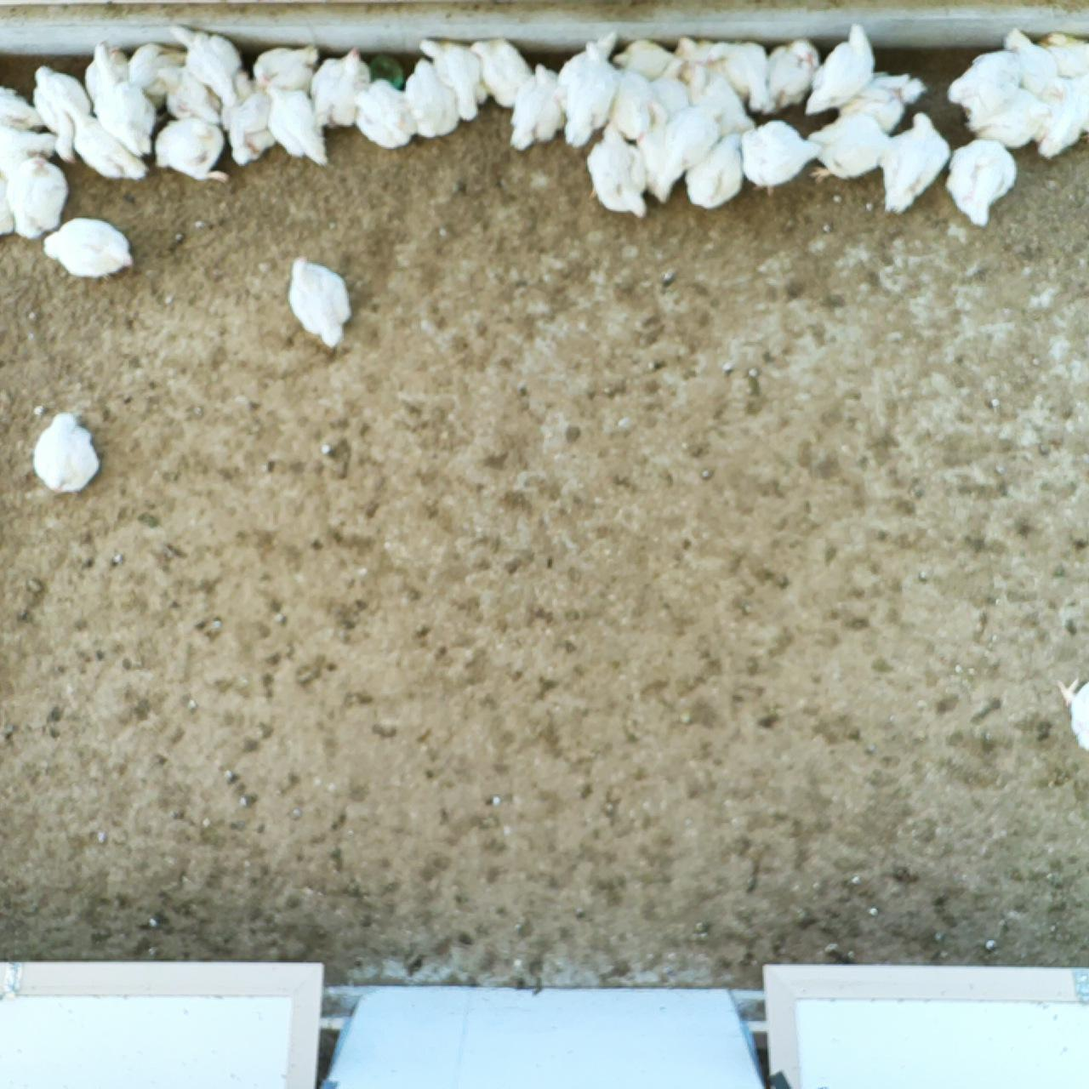chicken: (55, 96, 151, 184), (877, 110, 952, 218), (88, 39, 155, 157), (801, 19, 877, 119), (284, 250, 354, 352), (737, 118, 823, 198), (946, 136, 1020, 226), (415, 33, 489, 123), (586, 119, 650, 223), (562, 39, 620, 151), (806, 112, 893, 186), (169, 25, 245, 109), (40, 214, 138, 277), (31, 409, 102, 495), (262, 82, 332, 168), (218, 70, 278, 168), (838, 68, 928, 132), (4, 153, 71, 238), (310, 46, 376, 132), (965, 87, 1055, 150), (153, 115, 233, 185), (107, 42, 190, 109), (507, 61, 565, 156), (704, 39, 776, 115), (636, 98, 687, 204), (551, 29, 618, 109), (351, 75, 419, 152), (466, 37, 535, 112), (404, 54, 463, 141), (685, 58, 753, 133), (683, 133, 745, 210), (946, 47, 1024, 108), (30, 61, 95, 132), (767, 35, 822, 115), (154, 63, 225, 124), (999, 22, 1059, 92), (1036, 77, 1084, 163), (607, 65, 655, 145), (249, 41, 320, 94), (667, 103, 725, 167), (673, 33, 739, 87), (84, 38, 130, 115), (0, 123, 59, 179), (1052, 671, 1089, 755), (611, 35, 677, 78), (1037, 28, 1089, 80), (0, 83, 47, 133), (648, 75, 692, 119)
